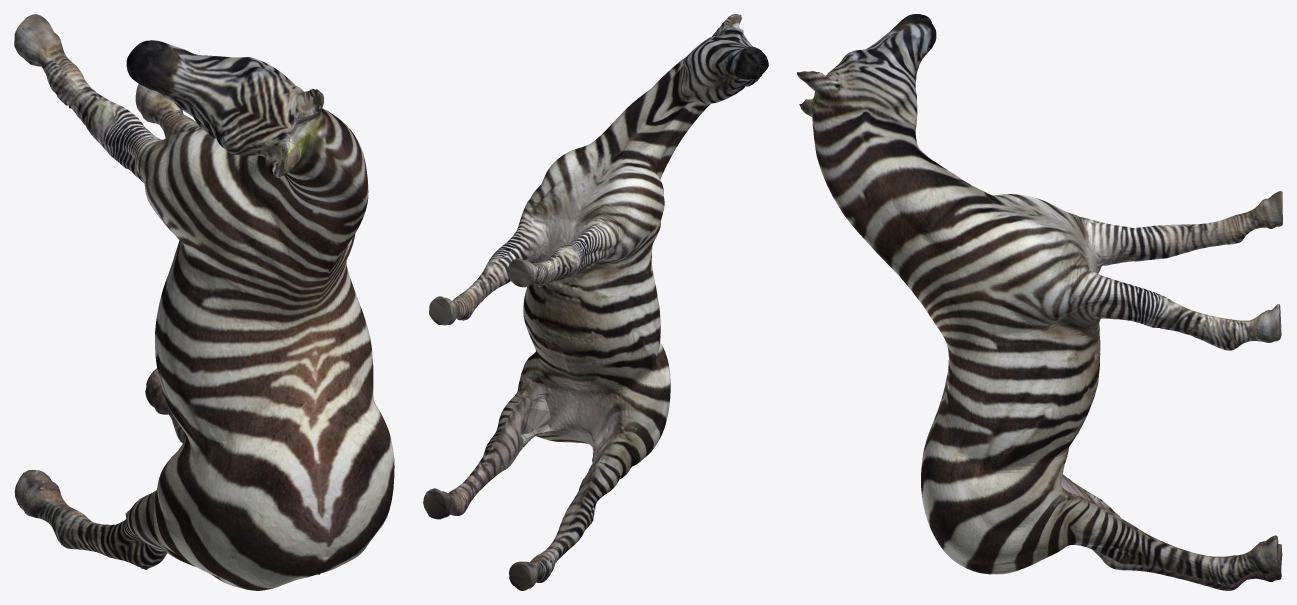
Rendered from zebra.obj.
3 renders of one model, left to right at view 1: azimuth 30°, elevation 25°; view 2: azimuth 150°, elevation 25°; view 3: azimuth 270°, elevation 25°, orthographic. The views are drawn at different scales.
Visible parts, largest first — view 1: object0, object4, object1, object12, object2, object5, object3; view 2: object0, object4, object5, object13, object2, object3, object11, object1, object10, object7, object6, object9; view 3: object4, object1, object0, object3, object12.
Boxes of the visible parts, left/top/right/bottom form: object0: left=14, top=22, right=364, bottom=590; object4: left=128, top=40, right=394, bottom=573; object1: left=25, top=17, right=162, bottom=139; object12: left=265, top=89, right=326, bottom=177; object2: left=135, top=84, right=202, bottom=137; object5: left=145, top=368, right=184, bottom=443; object3: left=30, top=470, right=167, bottom=563; object0: left=518, top=58, right=768, bottom=590; object4: left=423, top=15, right=766, bottom=517; object5: left=435, top=369, right=579, bottom=518; object13: left=540, top=274, right=595, bottom=393; object2: left=442, top=215, right=570, bottom=325; object3: left=509, top=377, right=624, bottom=582; object11: left=542, top=395, right=593, bottom=447; object1: left=508, top=219, right=600, bottom=285; object10: left=509, top=561, right=533, bottom=588; object7: left=424, top=489, right=446, bottom=519; object6: left=429, top=296, right=452, bottom=324; object9: left=507, top=258, right=532, bottom=286; object4: left=812, top=14, right=1279, bottom=584; object1: left=1084, top=192, right=1282, bottom=273; object0: left=819, top=164, right=1281, bottom=576; object3: left=1061, top=475, right=1280, bottom=590; object12: left=797, top=71, right=840, bottom=120.
Bounding box in the file's own units: 229 × 500 × 417.
Materials: 1 (1 with a texture image).
